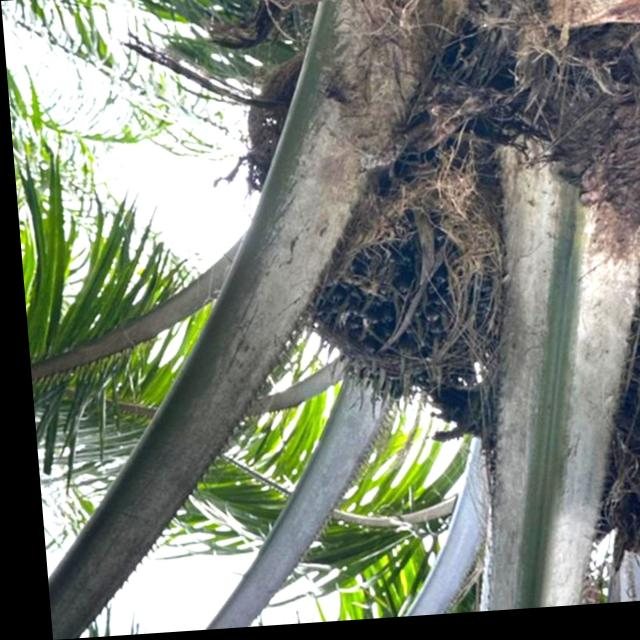almost: (279, 188, 502, 433)
